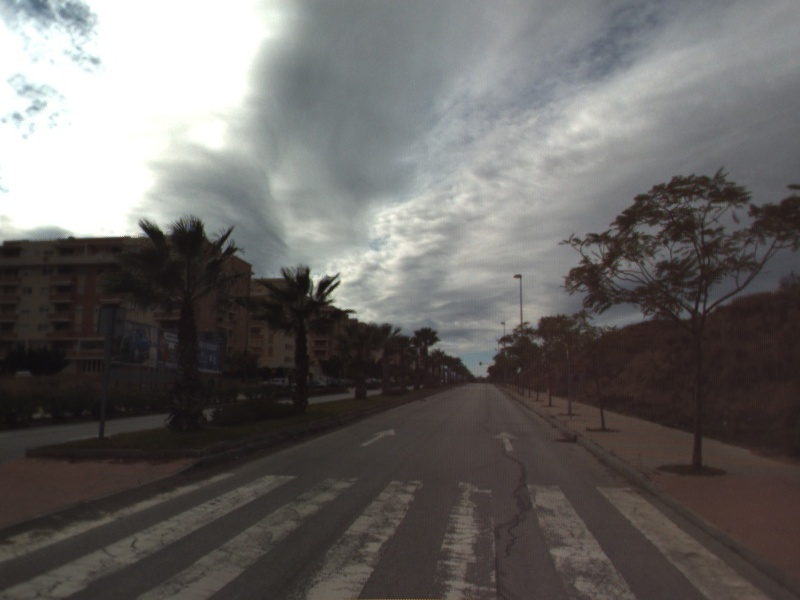STRAIGHT: (357, 426, 398, 449), (491, 428, 522, 454)
